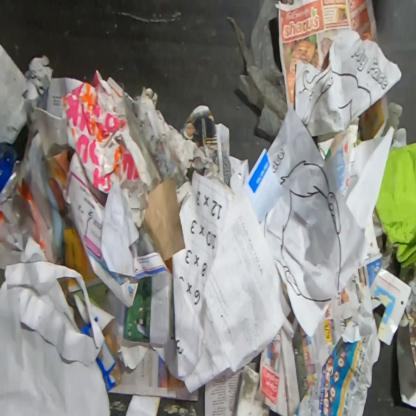cardboard: (374, 132, 416, 270)
metal: (0, 142, 19, 206)
soft_plastic: (226, 0, 289, 138), (0, 180, 54, 262)
